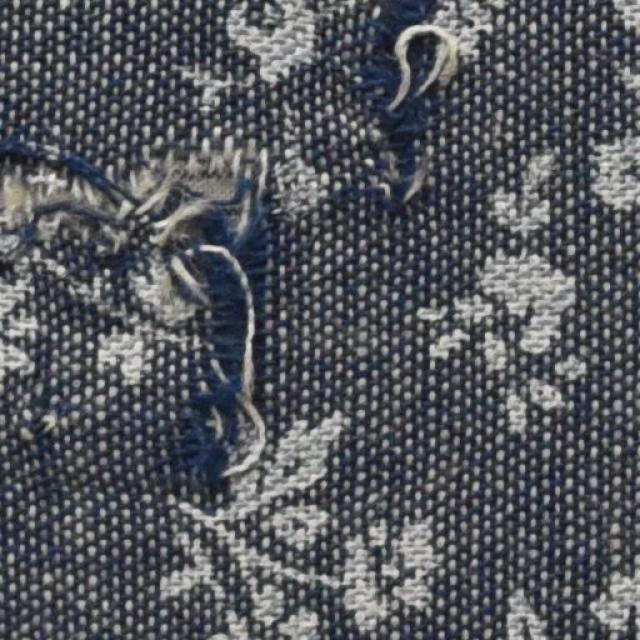Hole: (185, 162, 258, 216)
Snag: (167, 201, 278, 498), (0, 122, 175, 279), (355, 0, 467, 193)
